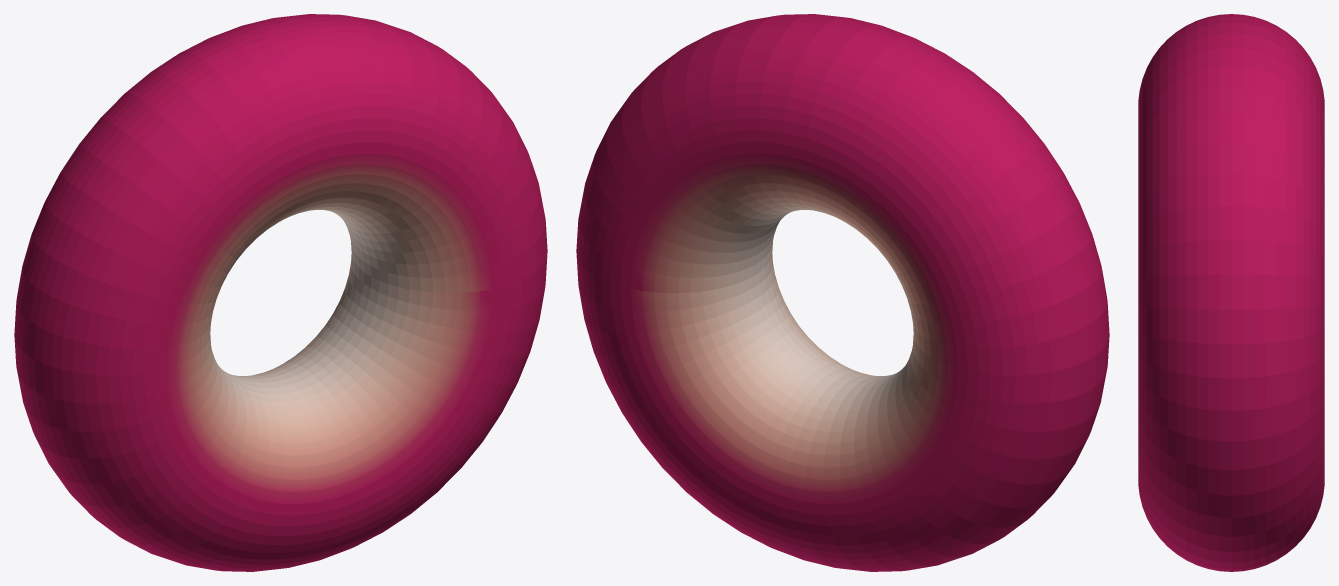
The picture shows the model from 3 angles, left to right: view 1: azimuth 30°, elevation 25°; view 2: azimuth 150°, elevation 25°; view 3: azimuth 270°, elevation 25°; orthographic projection. The views are drawn at different scales.
Parts seen in each view (by area): view 1: world; view 2: world; view 3: world.
Part boxes in pixels (left/top/right/bottom): world: left=14, top=14, right=547, bottom=571; world: left=576, top=14, right=1109, bottom=571; world: left=1138, top=14, right=1324, bottom=571.
Bounding box in the file's own units: 29.07 × 29.01 × 9.71.
